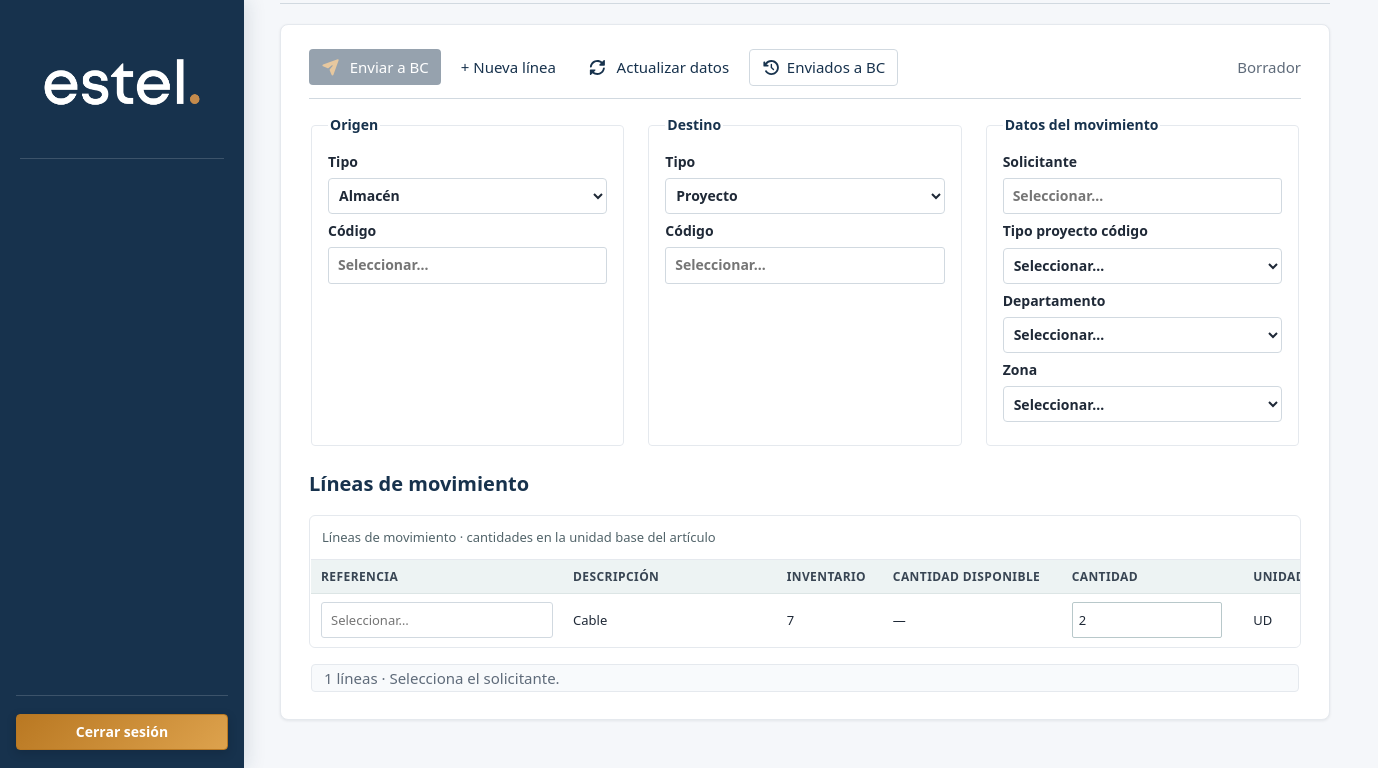
Test case: recupera el artículo guardado y busca desde tres caracteres sin cargar el catálogo completo
(page scrolled)
Expected: the text "7" is shown, [777, 594, 883, 646]
Type "20" into the dropdown named "Artículo línea 1".
click(437, 620); type("20")  # box [321, 602, 553, 638]
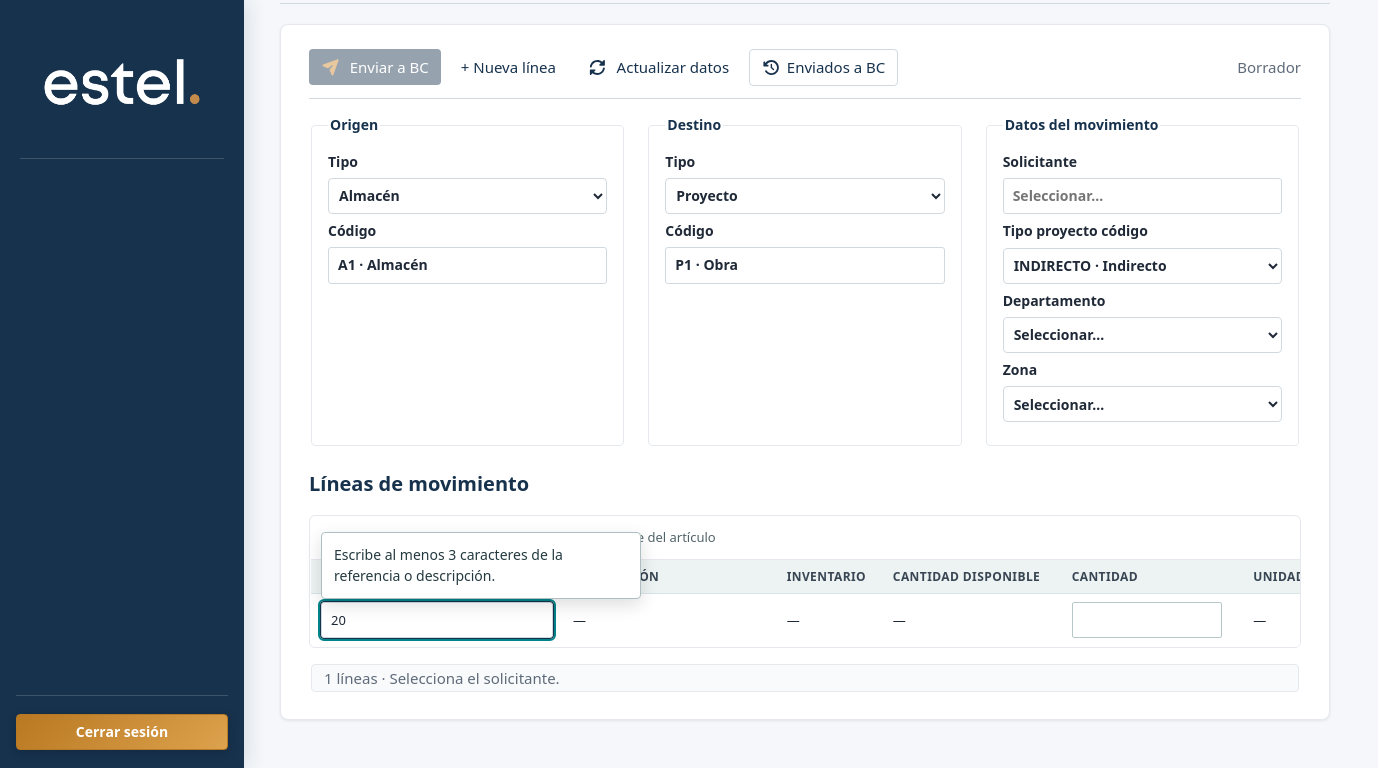
Replace the text in the dropdown named "Artículo línea 1" with "201" at (437,620), box [321, 602, 553, 638]
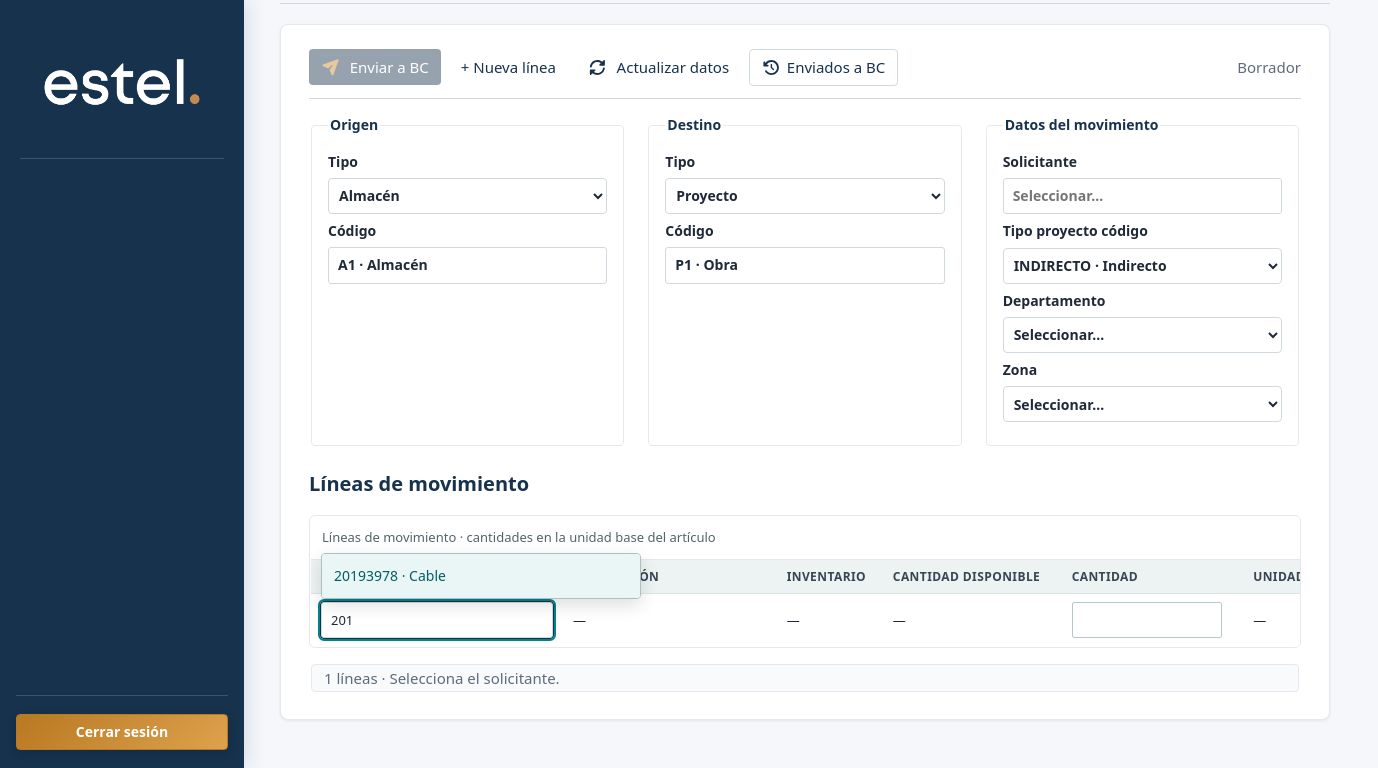
Expected: the option "20193978 · Cable" is shown, [322, 554, 640, 598]
